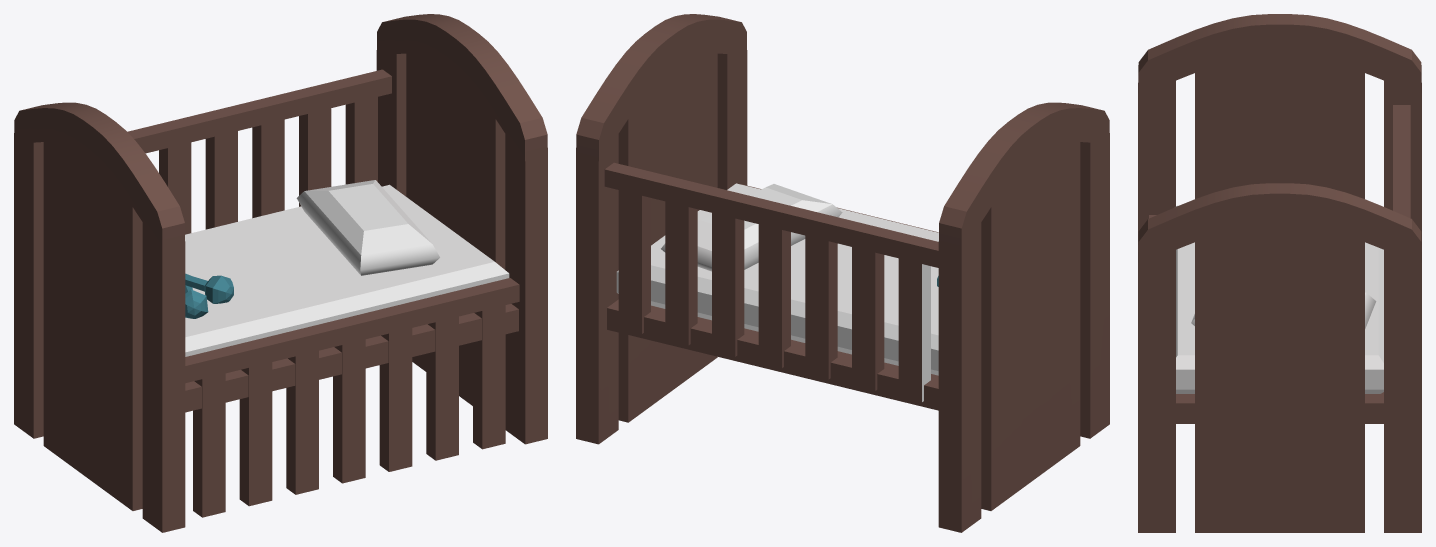
The model's file is baby_bed.fbx.
3 views of the same model, side by side, from view 1: azimuth 30°, elevation 25°; view 2: azimuth 150°, elevation 25°; view 3: azimuth 270°, elevation 25° (orthographic). The views are drawn at different scales.
Visible parts, largest first — view 1: polySurface66; view 2: polySurface66; view 3: polySurface66.
Part boxes in pixels (bbox=[...]): polySurface66: bbox=[14, 14, 547, 532]; polySurface66: bbox=[576, 14, 1109, 532]; polySurface66: bbox=[1138, 14, 1421, 532].
Bounding box in the file's own units: 3.23 × 2.84 × 2.15.
